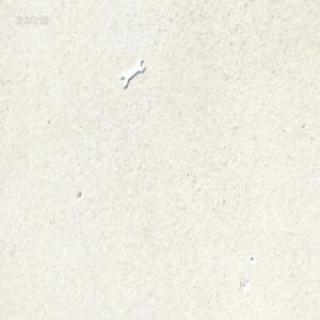Wrenchtrack_idkeyframe: (120, 60, 144, 90)
